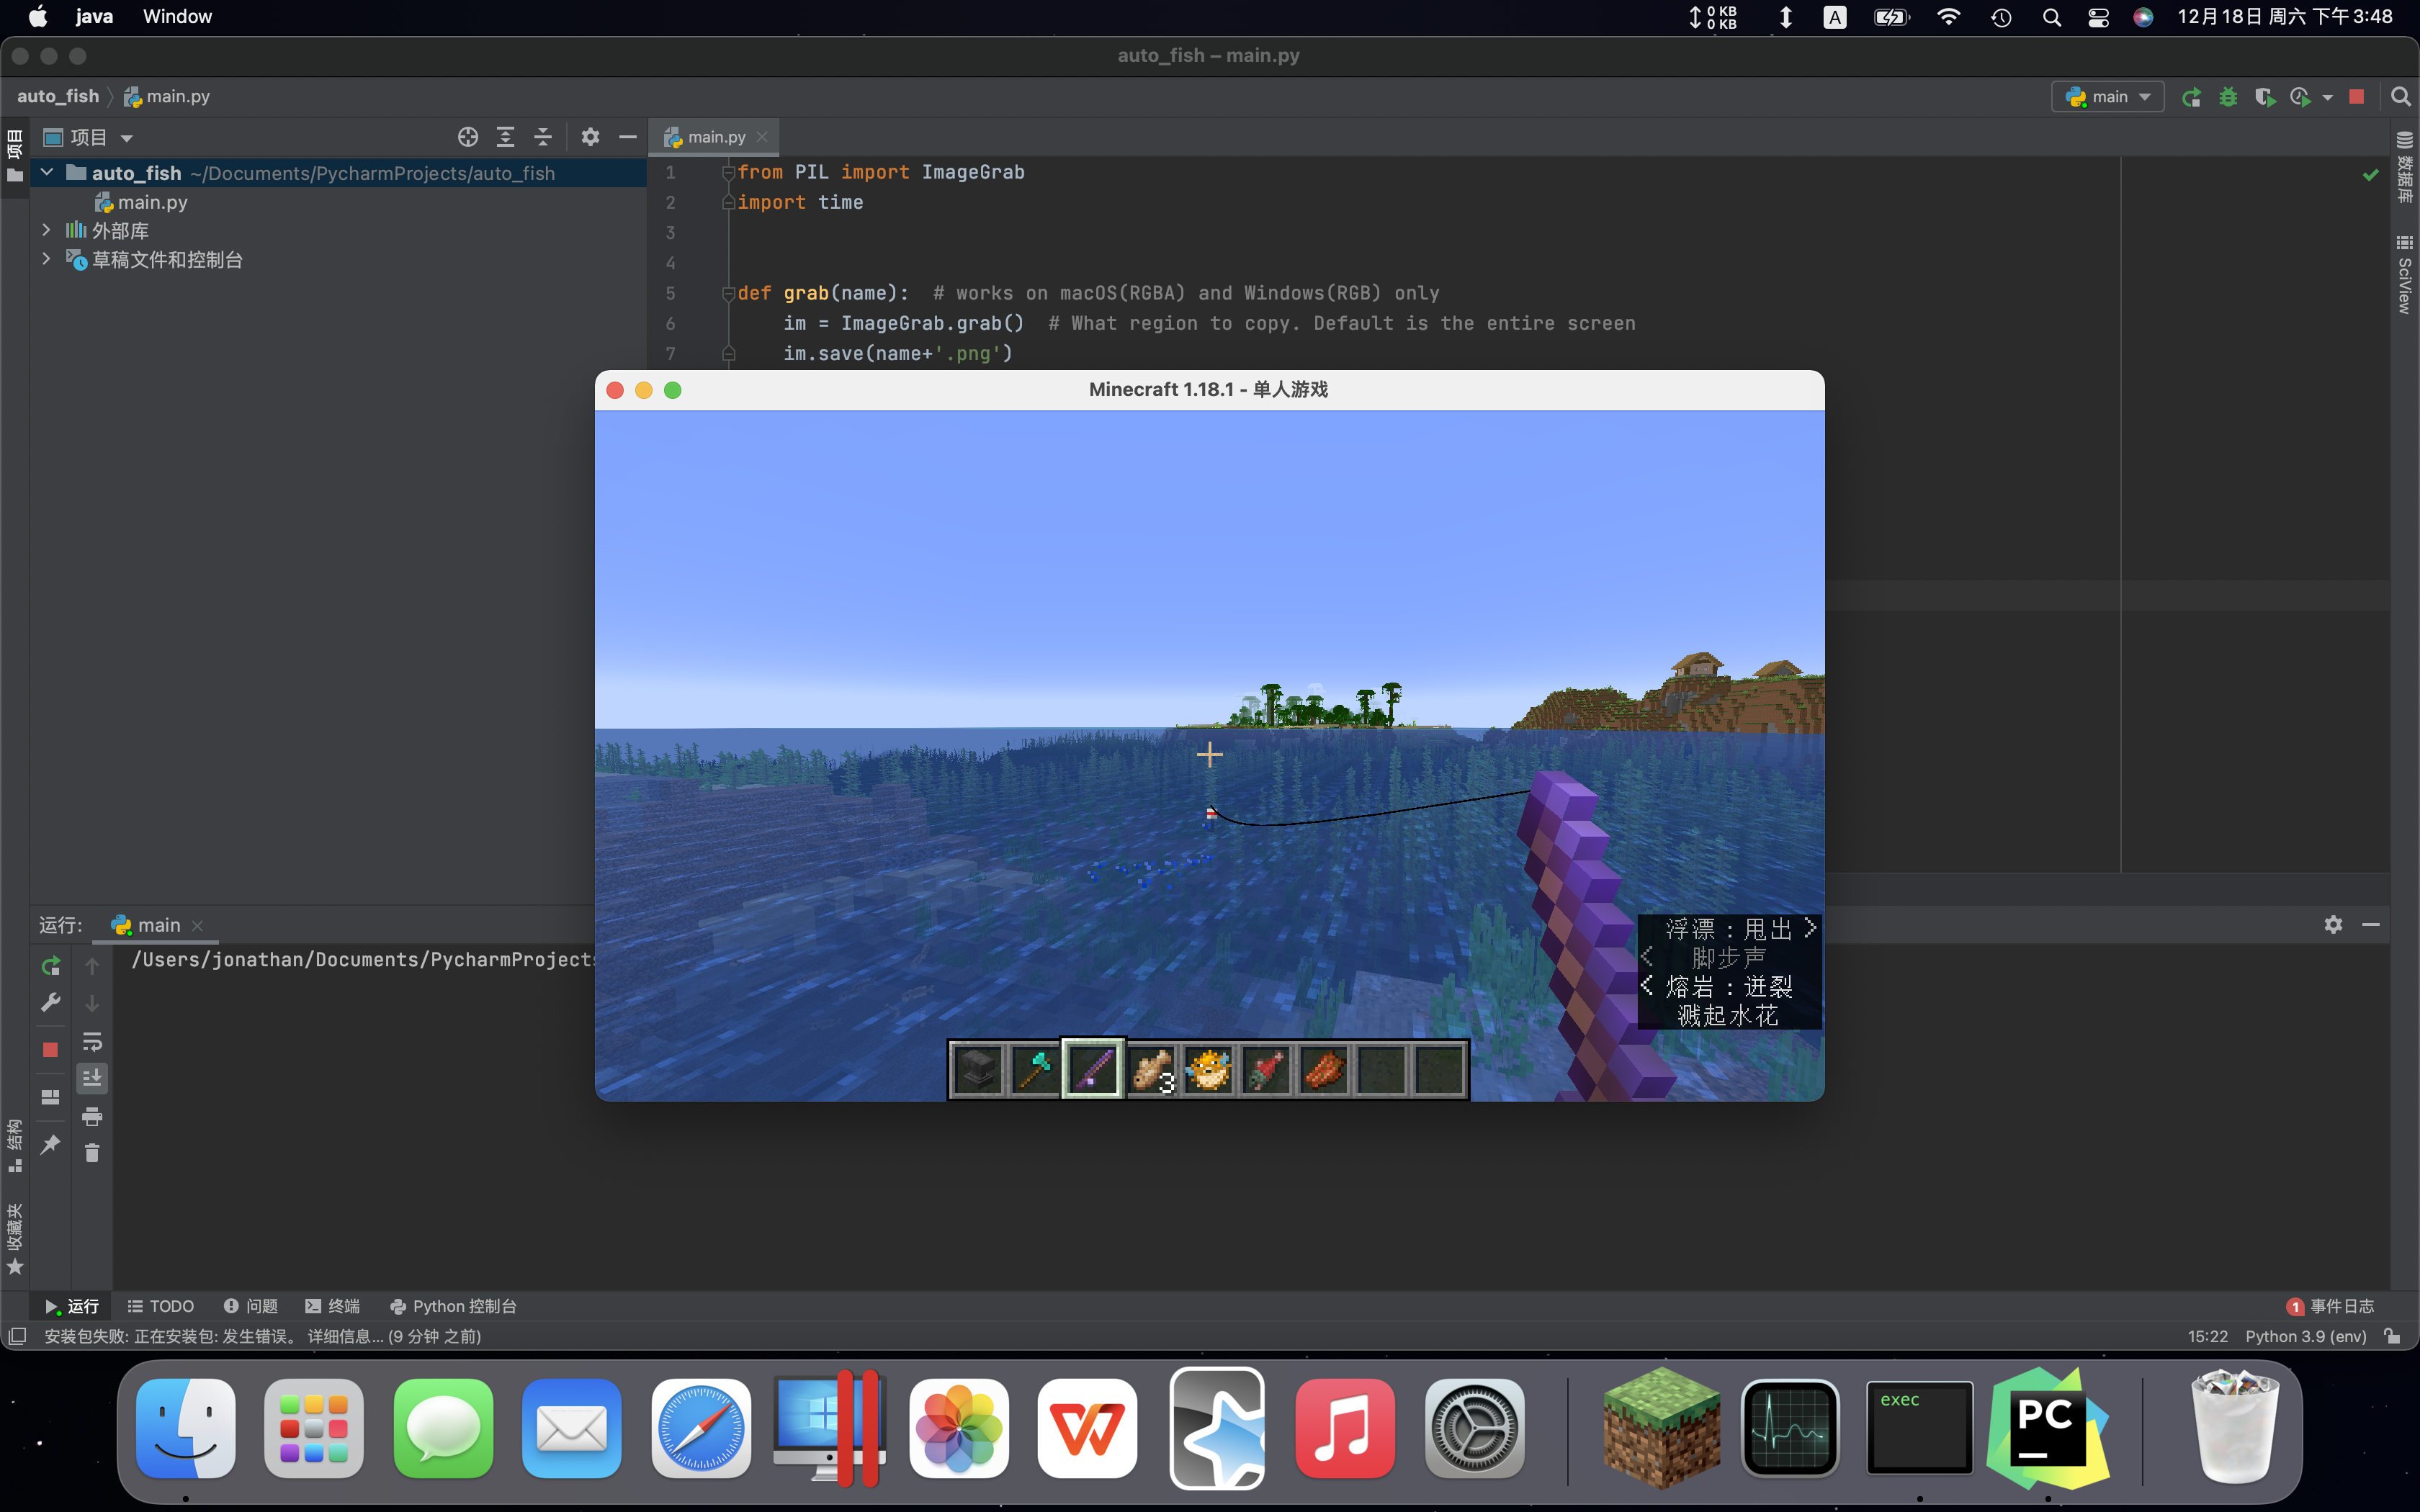inf: (1638, 915, 1822, 1029)
